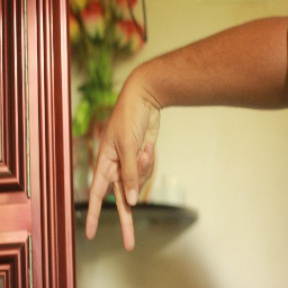Y: (81, 90, 166, 254)
